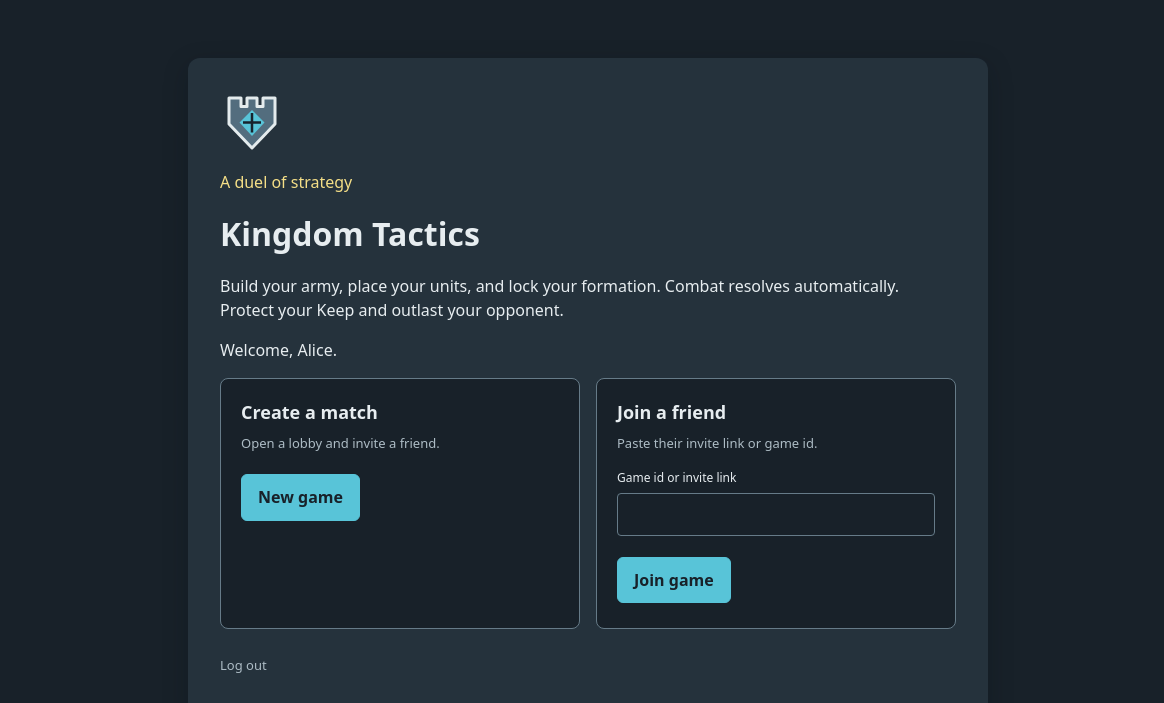
Test: auth and lobby routes › creates a game and enters the waiting lobby without joining
Step 1. Click the button "New game" → (300, 497), box [241,474,360,521]
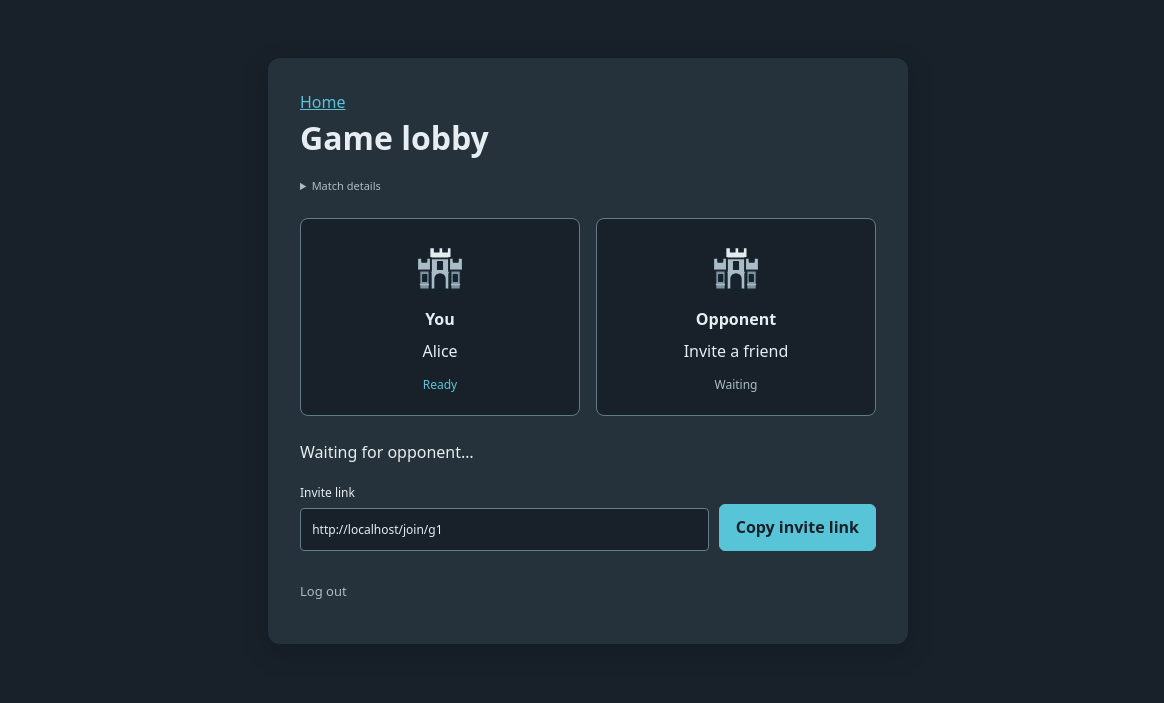
Check: the text "Waiting for opponent…" is shown, box [300,441,474,463]
